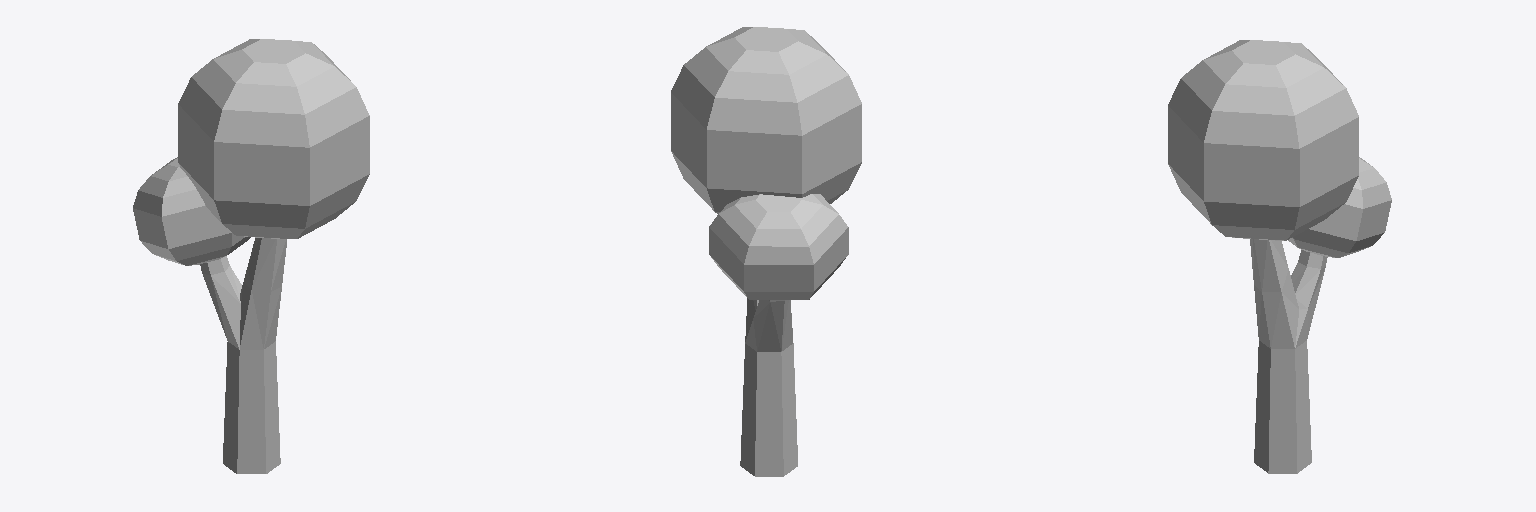
Rendered from Prop_Tree_Oak_1.obj.
The picture shows the model from 3 angles: view 1: azimuth 30°, elevation 25°; view 2: azimuth 150°, elevation 25°; view 3: azimuth 270°, elevation 25°; orthographic projection.
Visible parts, largest first — view 1: object3, object1, object2; view 2: object3, object2, object1; view 3: object3, object1, object2.
Part boxes in pixels (x1,y1,x2,y2): object3: (178,39,369,238); object1: (200,238,286,473); object2: (133,157,250,265); object3: (671,27,861,213); object2: (709,194,848,299); object1: (740,298,797,476); object3: (1168,40,1358,240); object1: (1250,239,1327,473); object2: (1288,157,1391,257).
Size of the model in its own units: 2.09 by 4.75 by 2.32.